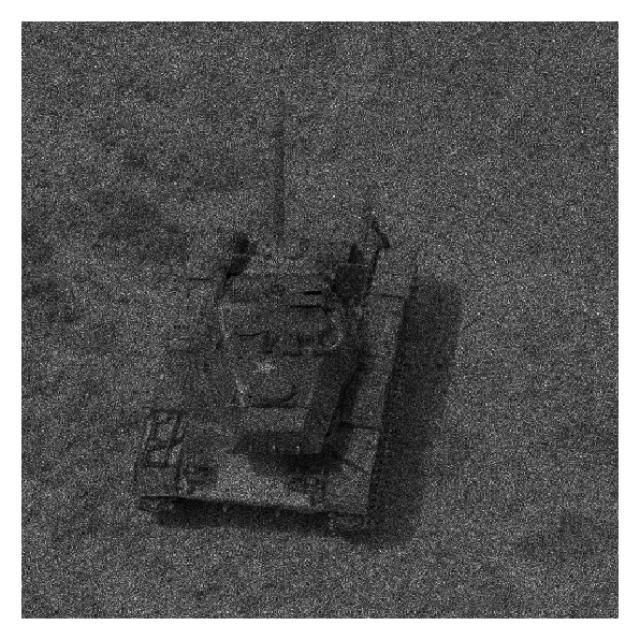tank: (125, 93, 424, 539)
